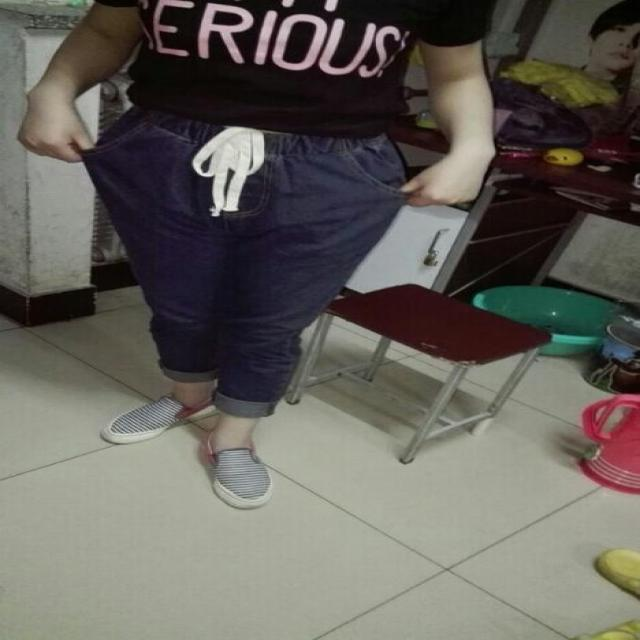trousers: (94, 107, 454, 416)
